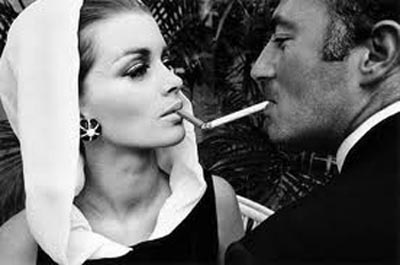cigarette: (206, 99, 271, 129), (171, 104, 205, 132)
